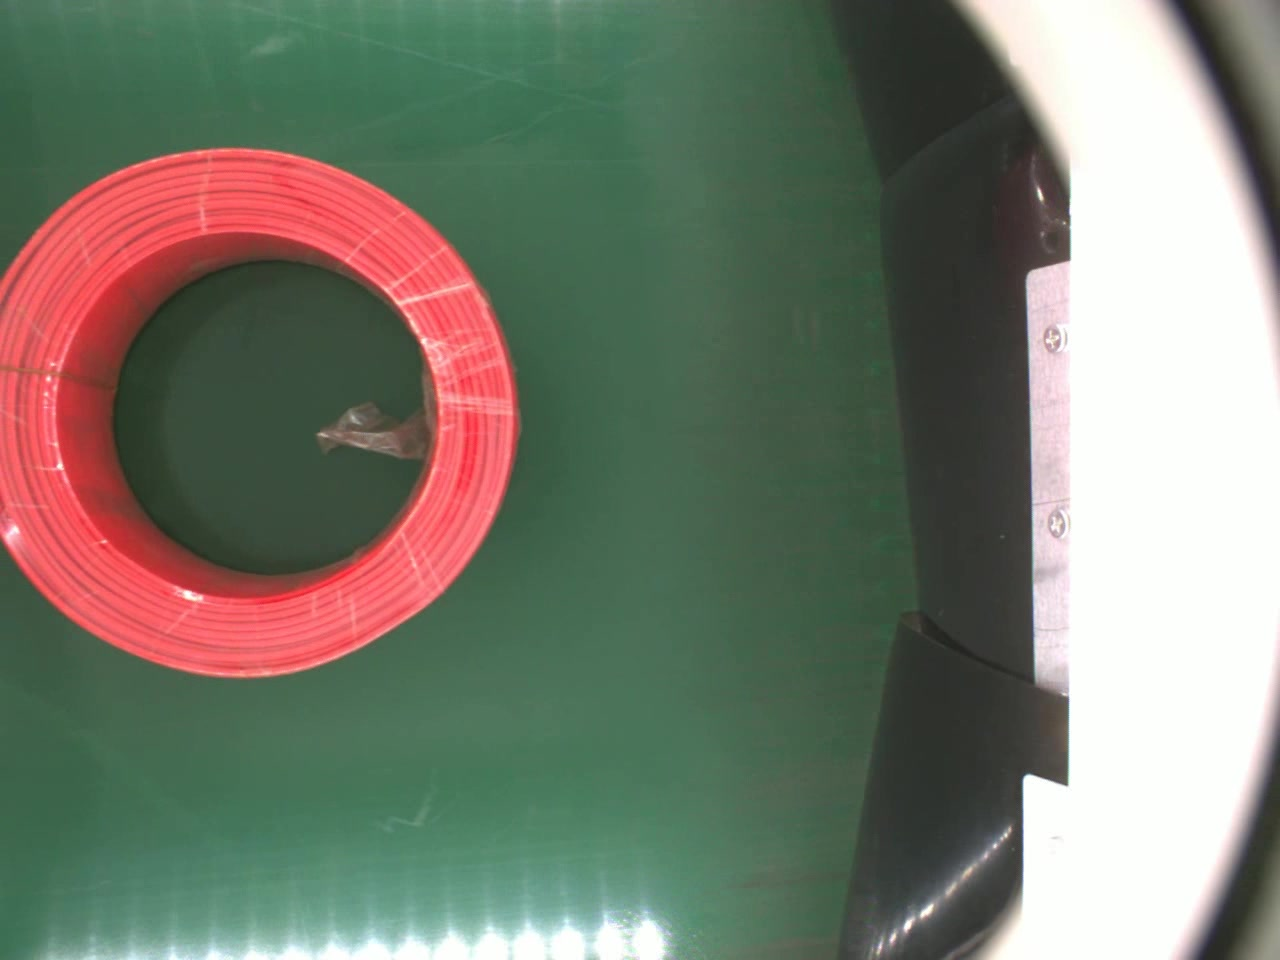red: (5, 143, 522, 679)
